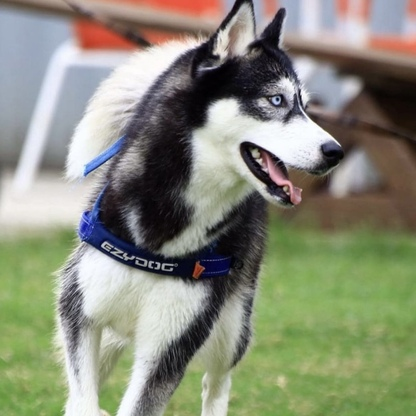husky: (43, 1, 351, 416)
